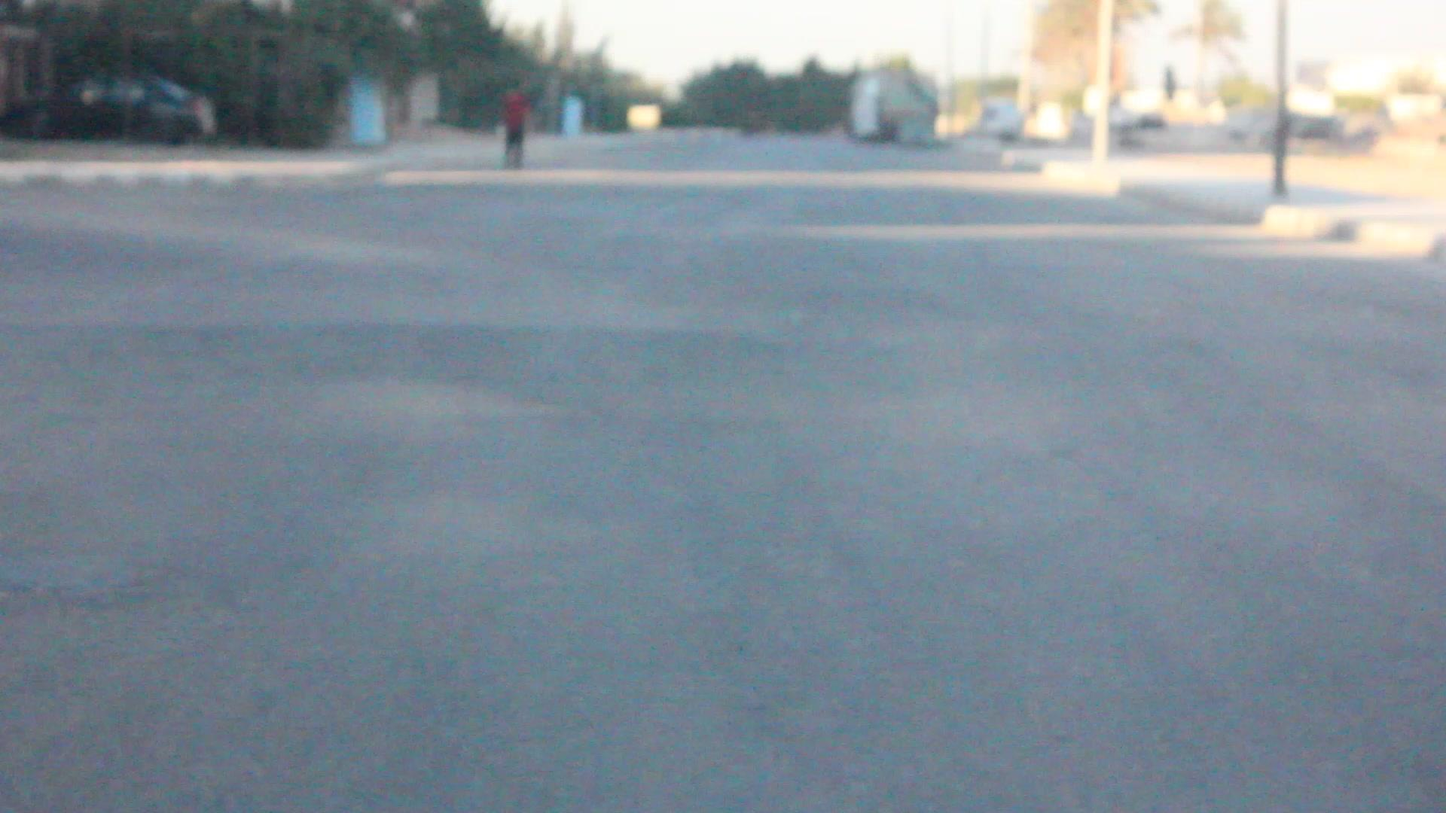Bump: (0, 301, 1445, 401)
